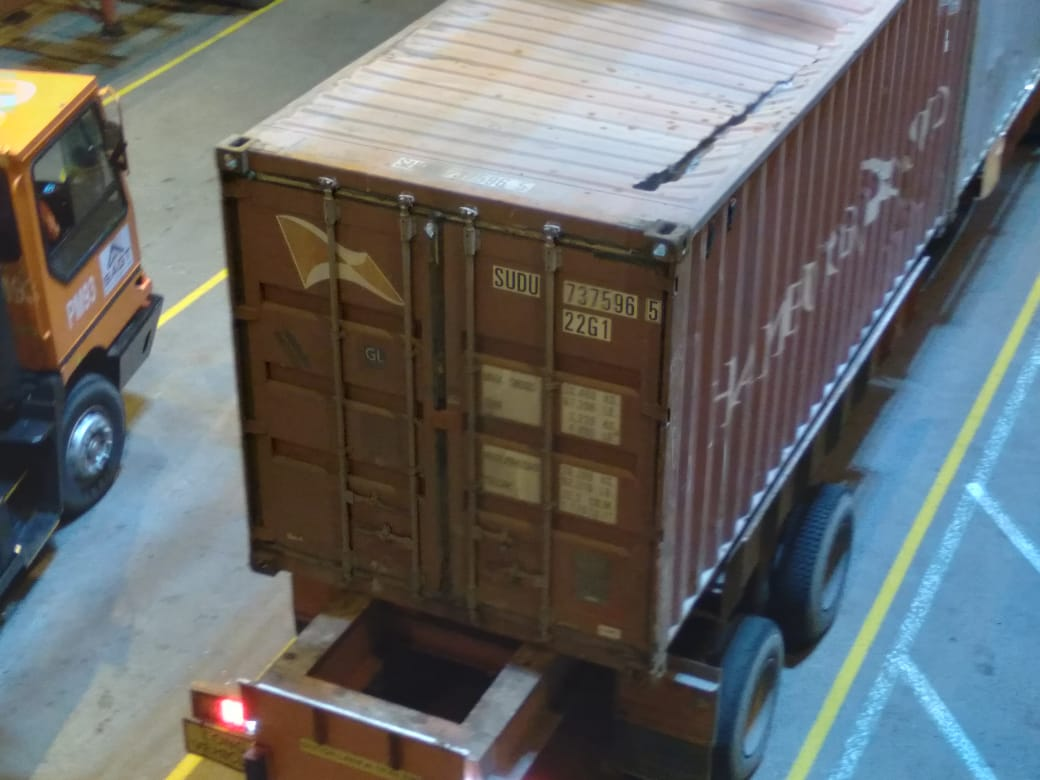cut: (600, 57, 830, 193)
